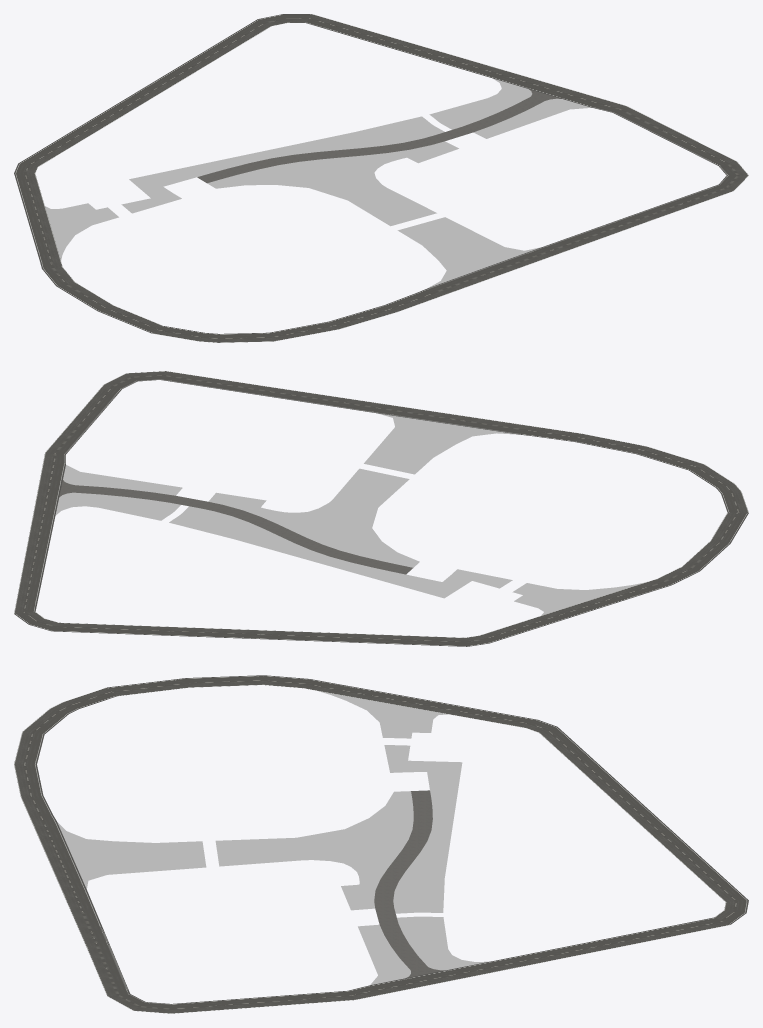
Rendered from Area.fbx.
3 views of the same model, one above another, from view 1: azimuth 30°, elevation 25°; view 2: azimuth 150°, elevation 25°; view 3: azimuth 270°, elevation 25° (orthographic). The views are drawn at different scales.
Visible parts, largest first — view 1: area01, around_road, mainroad01; view 2: area01, around_road, mainroad01; view 3: around_road, area01, mainroad01.
Part boxes in pixels (x1=…): area01: x1=45, y1=78, x2=591, y2=287; around_road: x1=14, y1=14, x2=748, y2=342; mainroad01: x1=197, y1=89, x2=561, y2=183; area01: x1=55, y1=413, x2=644, y2=615; around_road: x1=14, y1=371, x2=748, y2=646; mainroad01: x1=59, y1=480, x2=412, y2=574; around_road: x1=14, y1=675, x2=748, y2=1013; area01: x1=57, y1=691, x2=488, y2=985; mainroad01: x1=374, y1=790, x2=444, y2=977.
Size of the model in its own units: 21003 by 1.18e-12 by 19270.
